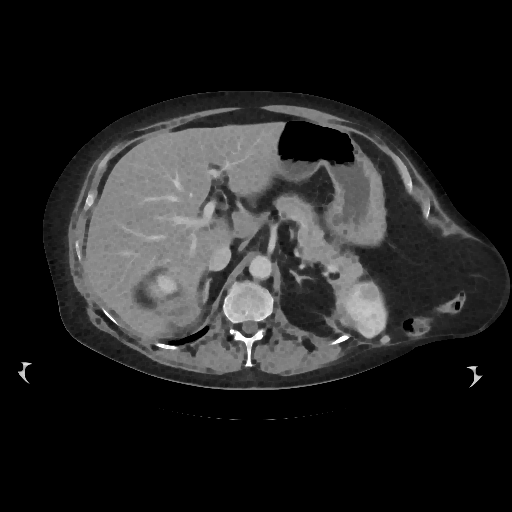Lesion: (357, 280, 380, 302), (377, 332, 394, 349)
